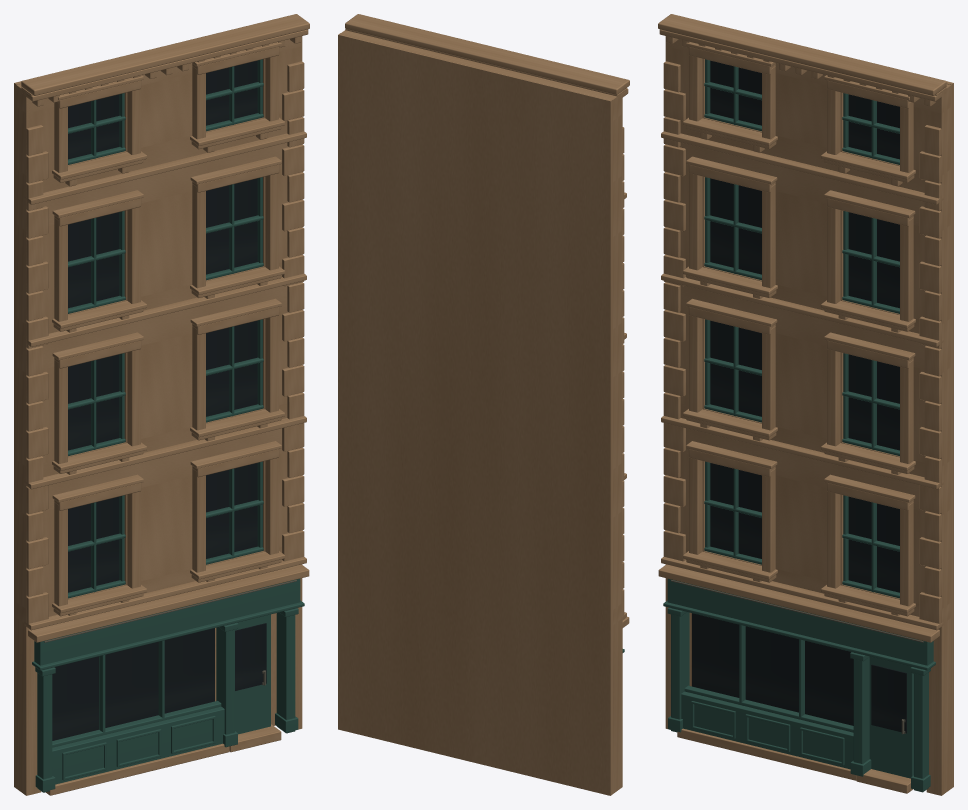
Rendered from glasgow_bay_near.glb.
3 renders of one model, left to right at view 1: azimuth 30°, elevation 25°; view 2: azimuth 150°, elevation 25°; view 3: azimuth 330°, elevation 25°, orthographic.
Visible parts, largest first — view 1: GlasgowBay_NEAR; view 2: GlasgowBay_NEAR; view 3: GlasgowBay_NEAR.
Part boxes in pixels (x1=…): GlasgowBay_NEAR: x1=14, y1=14, x2=309, y2=795; GlasgowBay_NEAR: x1=338, y1=14, x2=629, y2=795; GlasgowBay_NEAR: x1=658, y1=14, x2=953, y2=795.
Size of the model in its own units: 6.5 by 16 by 0.86.
Materials: 4 (2 with a texture image).
